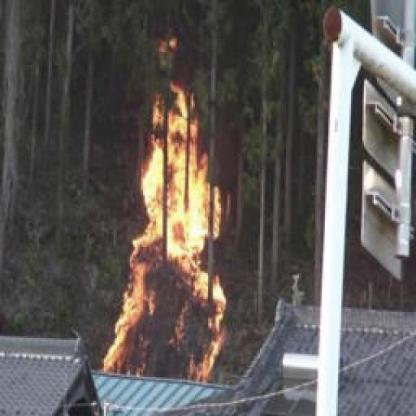fire: (88, 27, 238, 388)
